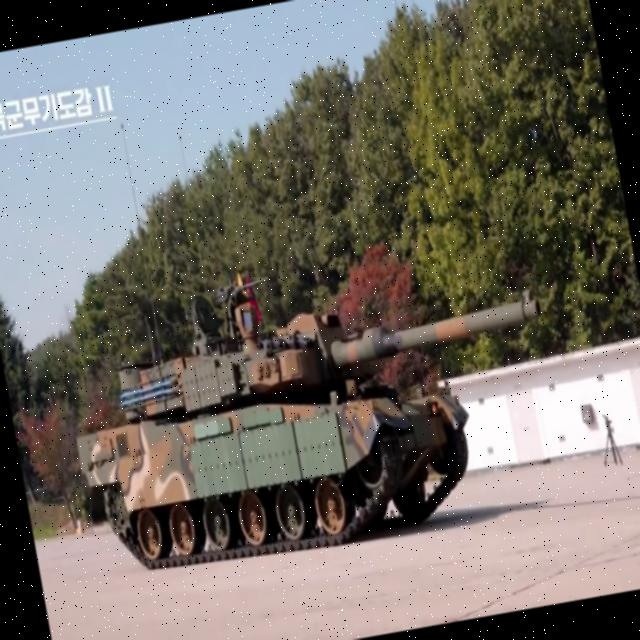korea tank: (51, 222, 576, 588)
